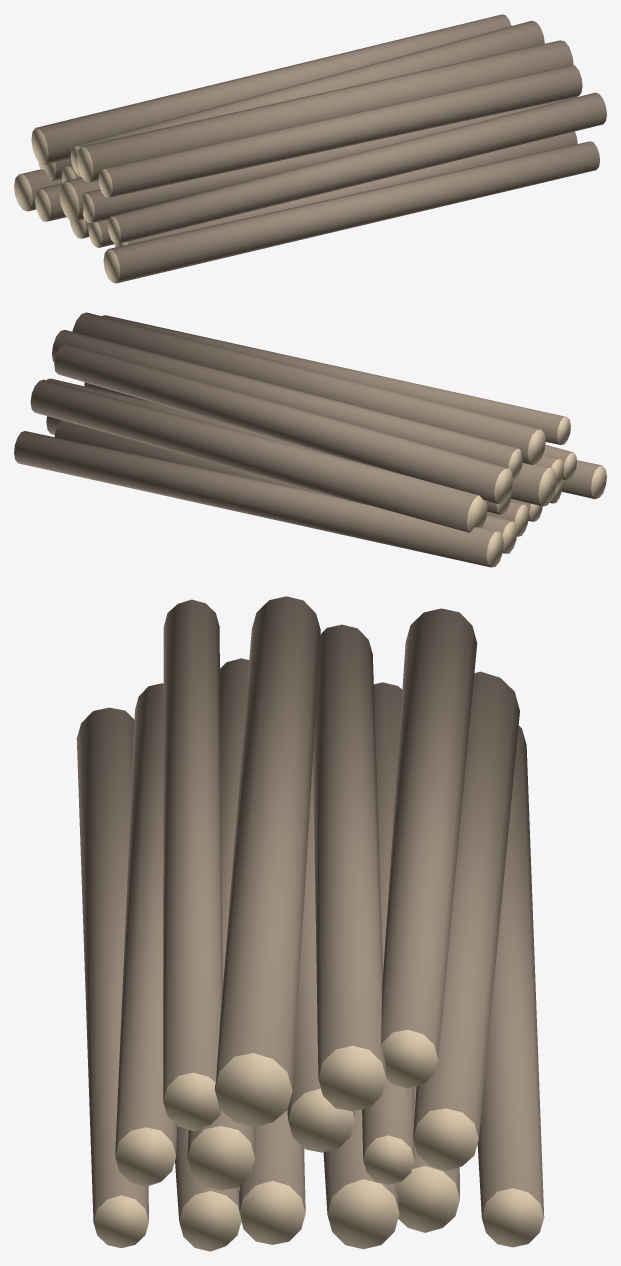
File: timber_stack_v1.glb
3 renders of one model, top to bottom at view 1: azimuth 30°, elevation 25°; view 2: azimuth 150°, elevation 25°; view 3: azimuth 270°, elevation 25°, orthographic. The views are drawn at different scales.
Parts seen in each view (by area): view 1: timber_stack_v1_LOD0; view 2: timber_stack_v1_LOD0; view 3: timber_stack_v1_LOD0.
Part boxes in pixels (<box>): timber_stack_v1_LOD0: <box>14,14,606,283</box>; timber_stack_v1_LOD0: <box>14,312,606,567</box>; timber_stack_v1_LOD0: <box>76,596,544,1251</box>.
Size of what is drawn, in the model's own units: 4.24 by 0.8677 by 1.75.
